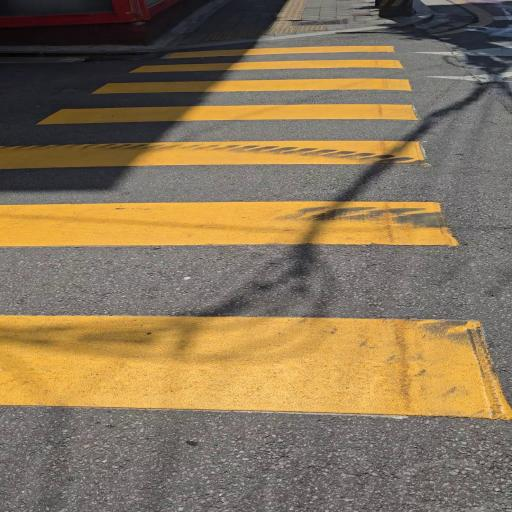yellow-crosswalk: (0, 38, 512, 424)
